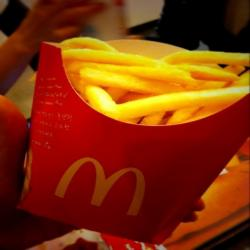fries: (38, 30, 250, 165)
